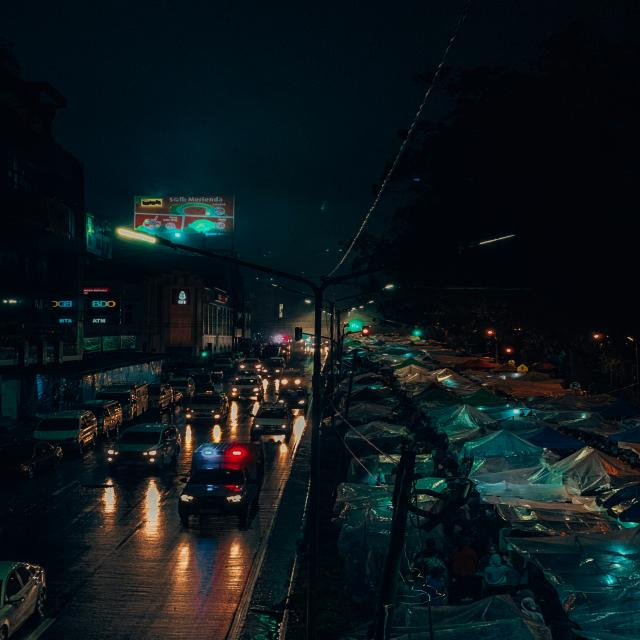Car: (0, 560, 48, 640), (106, 422, 181, 472), (249, 402, 294, 438), (184, 393, 229, 423)
Traffic-sign: (131, 194, 236, 242)
